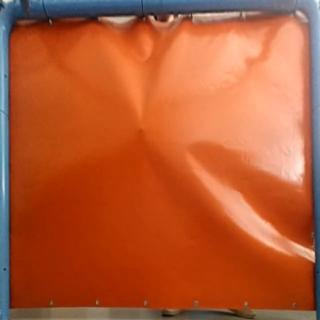Hit-hRxx: (131, 119, 152, 138)
